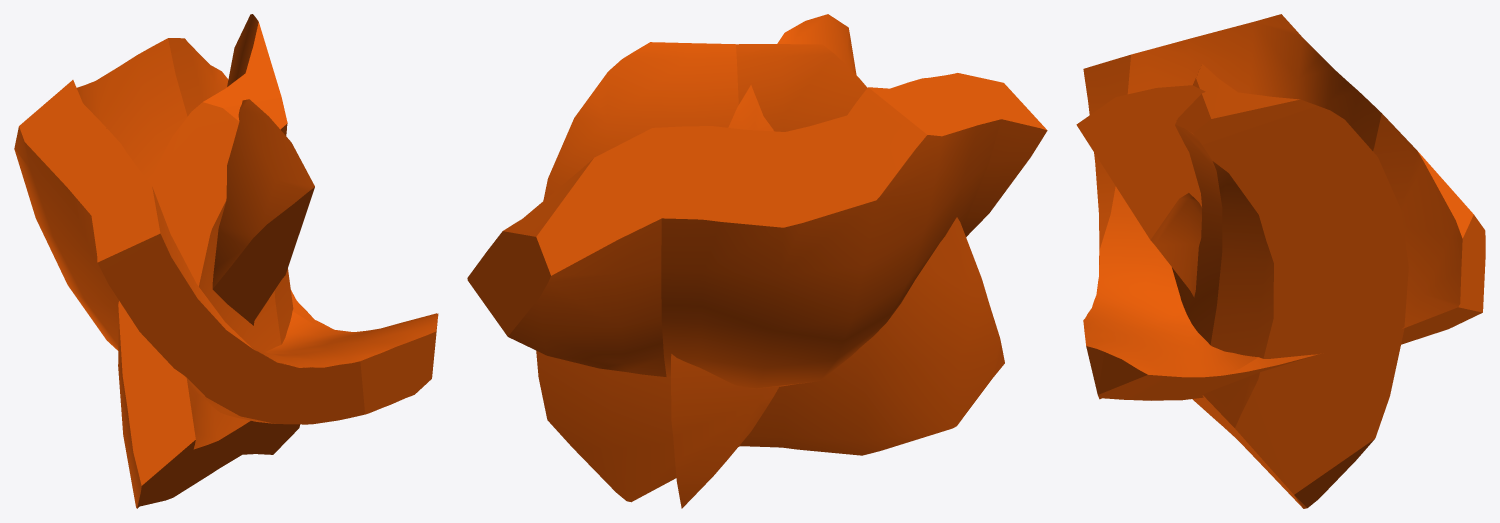
Rendered from MESH_Pumpkinbit.fbx.
The picture shows the model from 3 angles, left to right: view 1: azimuth 30°, elevation 25°; view 2: azimuth 150°, elevation 25°; view 3: azimuth 270°, elevation 25°; orthographic projection. The views are drawn at different scales.
Parts seen in each view (by area): view 1: Circle.002_cell.063, Circle.002_cell.038, Circle.002_cell.051; view 2: Circle.002_cell.063, Circle.002_cell.038, Circle.002_cell.051; view 3: Circle.002_cell.038, Circle.002_cell.063, Circle.002_cell.051.
Boxes of the visible parts, x1=… form: Circle.002_cell.063: x1=14, y1=38, x2=438, y2=424; Circle.002_cell.038: x1=118, y1=14, x2=300, y2=508; Circle.002_cell.051: x1=212, y1=99, x2=314, y2=325; Circle.002_cell.063: x1=467, y1=73, x2=1047, y2=388; Circle.002_cell.038: x1=536, y1=42, x2=1004, y2=502; Circle.002_cell.051: x1=671, y1=14, x2=856, y2=508; Circle.002_cell.038: x1=1172, y1=64, x2=1408, y2=508; Circle.002_cell.063: x1=1083, y1=14, x2=1485, y2=400; Circle.002_cell.051: x1=1076, y1=85, x2=1205, y2=297.
Size of the model in its own units: 49.76 by 57.38 by 52.92.
